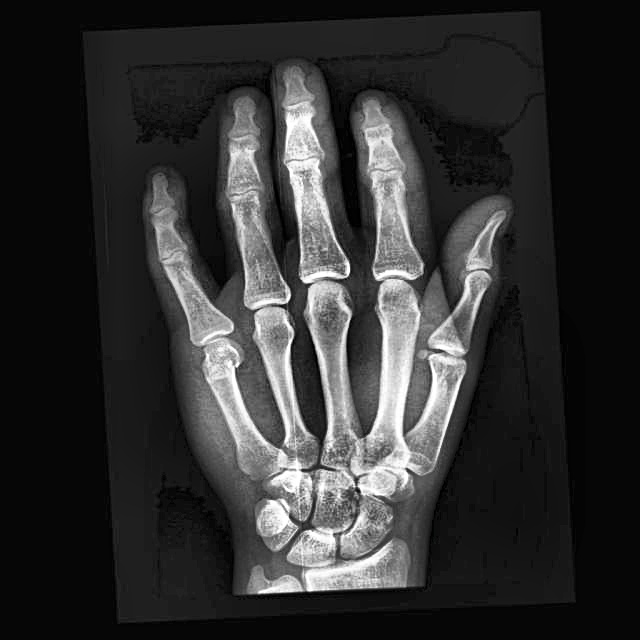Comminuted: (190, 334, 246, 390)
